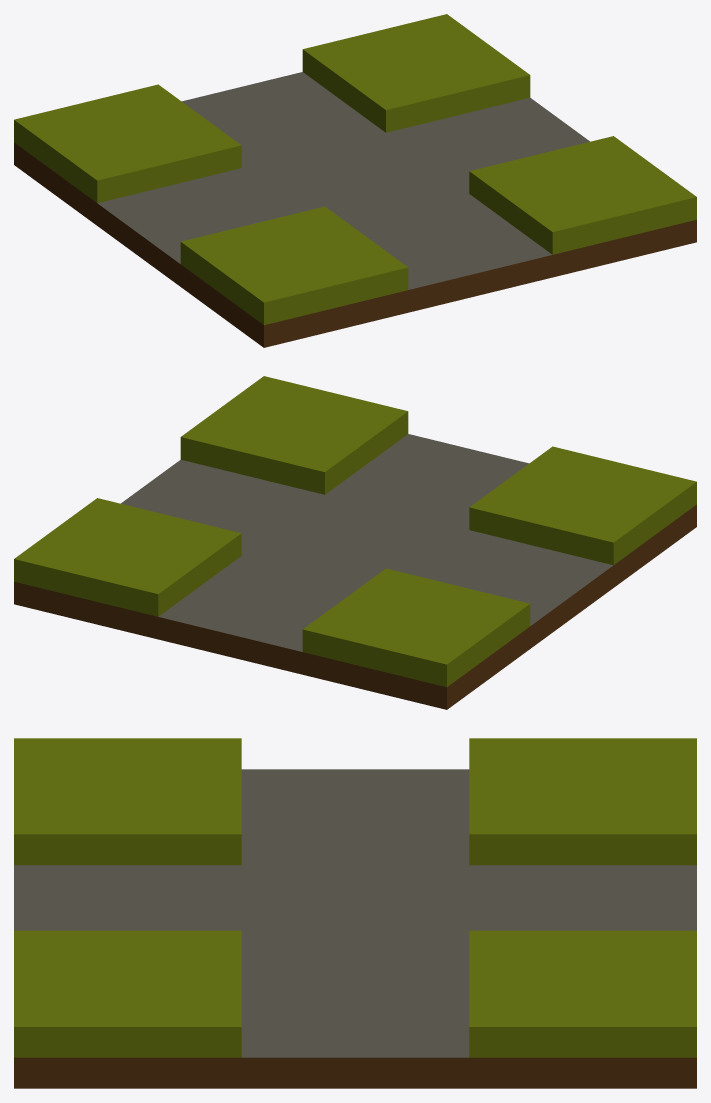
Rendered from CityCrossing_02.fbx.
3 views of the same model, one above another, from view 1: azimuth 30°, elevation 25°; view 2: azimuth 150°, elevation 25°; view 3: azimuth 270°, elevation 25° (orthographic). The views are drawn at different scales.
Visible parts, largest first — view 1: CityCrossing_02; view 2: CityCrossing_02; view 3: CityCrossing_02.
Boxes of the visible parts, left/top/right/bottom form: CityCrossing_02: left=14, top=14, right=696, bottom=347; CityCrossing_02: left=14, top=376, right=696, bottom=709; CityCrossing_02: left=14, top=738, right=696, bottom=1088.
Size of the model in its own units: 1 by 0.1 by 1.
